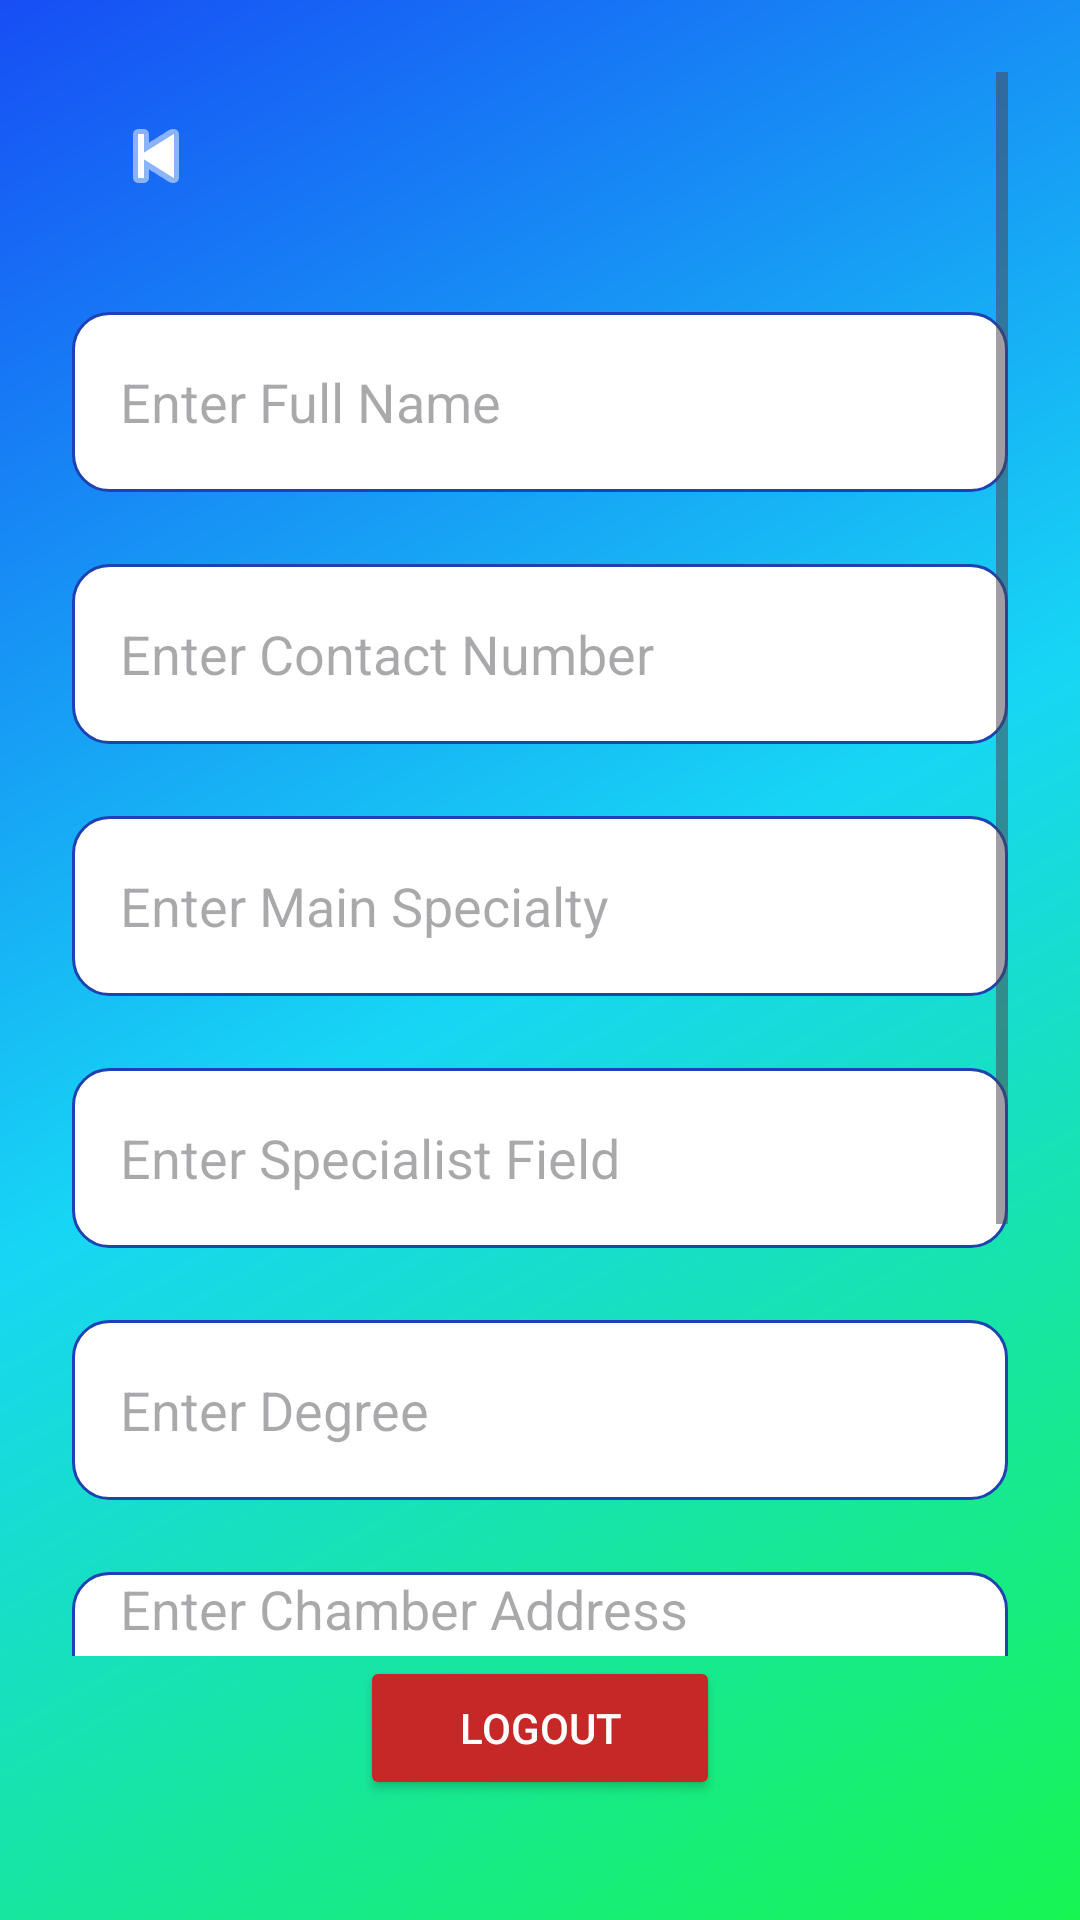

Icon bounding boxes for this 1080*1920 phone screenshot, format (x1, y1, x2, y2):
Back: (133, 129, 179, 183)
